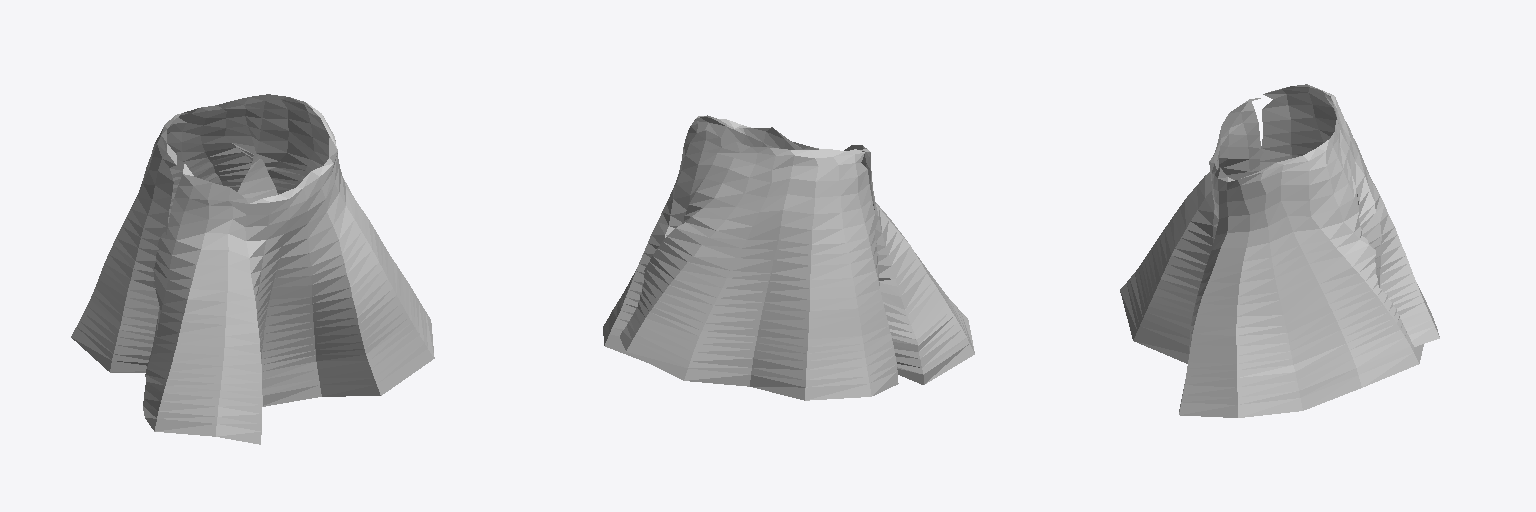
File: skirt.obj
The picture shows the model from 3 angles: view 1: azimuth 30°, elevation 25°; view 2: azimuth 150°, elevation 25°; view 3: azimuth 270°, elevation 25°; orthographic projection.
Visible parts, largest first — view 1: skirt_Sample-person-from-scan_a_pose.011; view 2: skirt_Sample-person-from-scan_a_pose.011; view 3: skirt_Sample-person-from-scan_a_pose.011.
Boxes of the visible parts, box(x1,y1,x2,y2) form: skirt_Sample-person-from-scan_a_pose.011: box(71, 94, 434, 444); skirt_Sample-person-from-scan_a_pose.011: box(603, 115, 974, 400); skirt_Sample-person-from-scan_a_pose.011: box(1120, 84, 1439, 417).
Size of the model in its own units: 0.6732 by 0.568 by 0.6047.